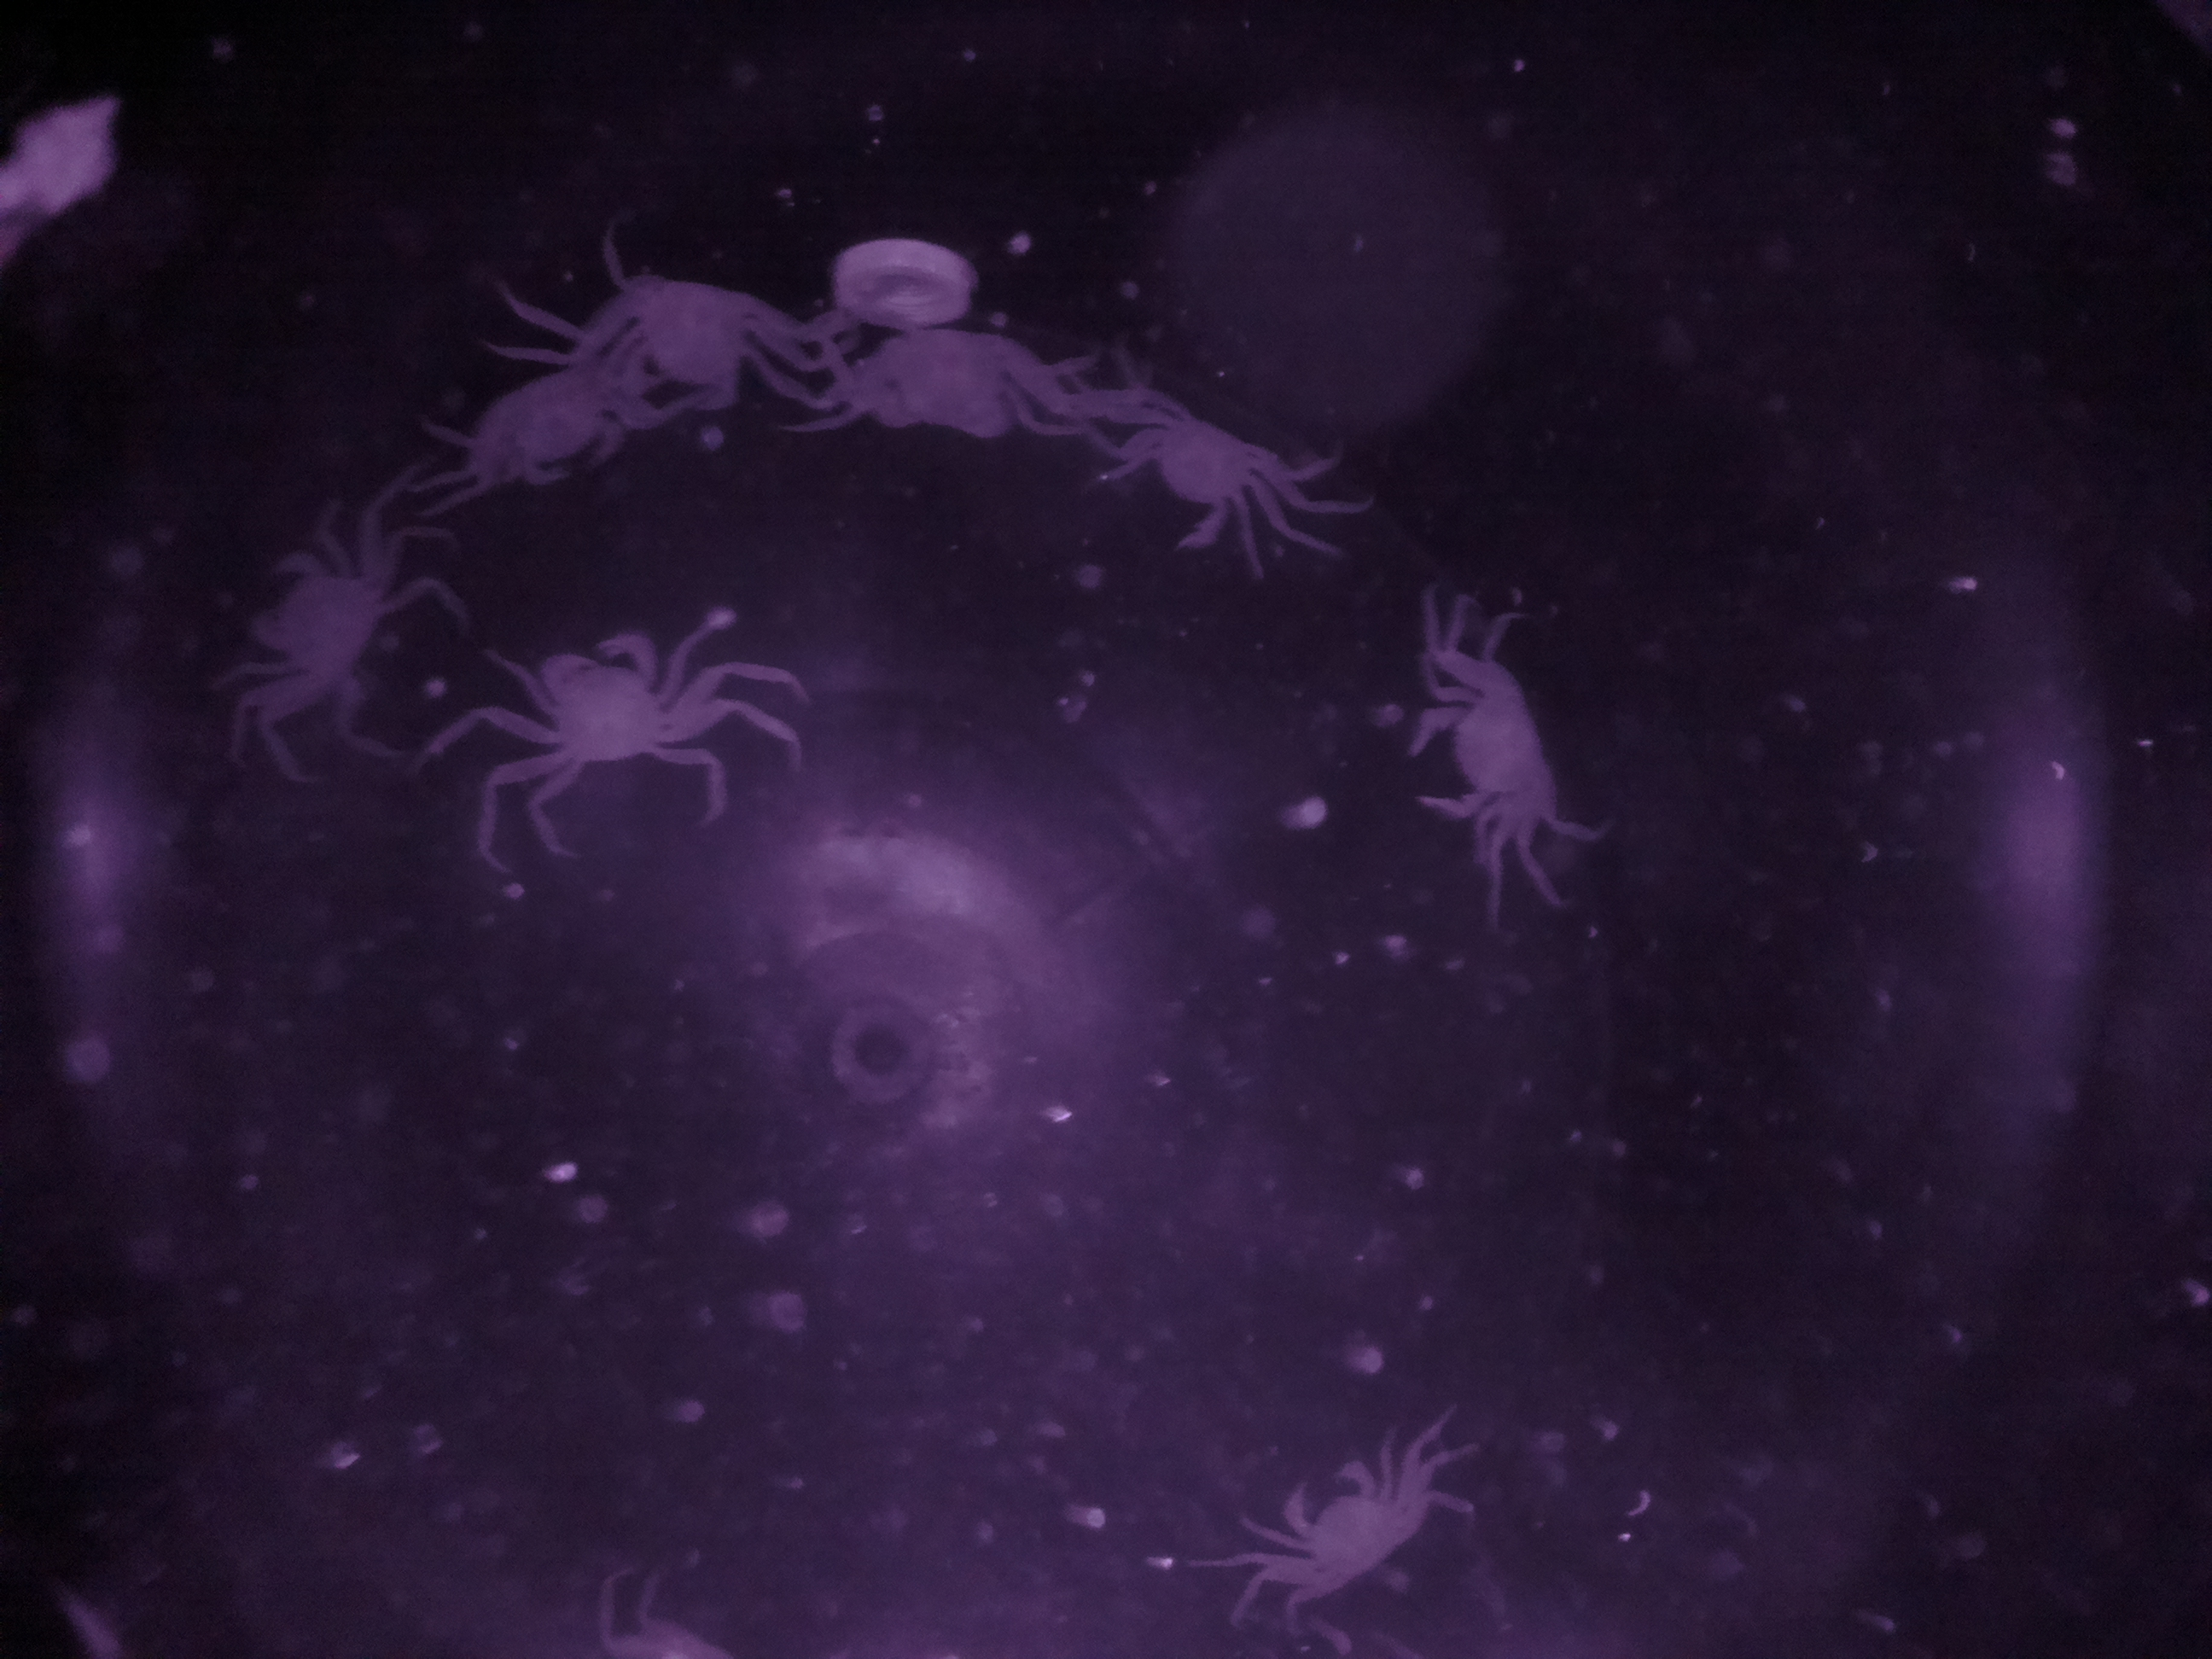Crab: (1388, 659, 1576, 852), (225, 521, 408, 706), (859, 301, 1061, 467), (505, 620, 709, 781), (1256, 1441, 1428, 1622), (1129, 382, 1280, 565)
